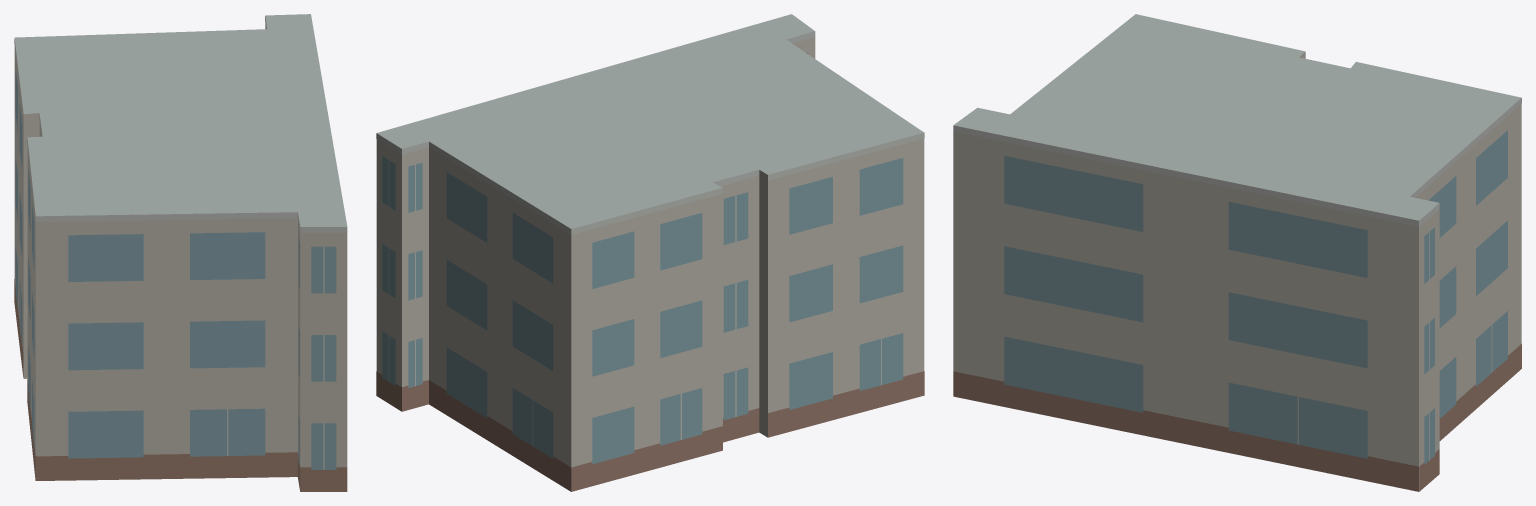
File: survey-upis-32525222.glb
3 views of the same model, side by side, from view 1: azimuth 30°, elevation 25°; view 2: azimuth 150°, elevation 25°; view 3: azimuth 270°, elevation 25° (orthographic). The views are drawn at different scales.
Parts seen in each view (by area): view 1: survey-upis-32525222.tmp; view 2: survey-upis-32525222.tmp; view 3: survey-upis-32525222.tmp.
Part boxes in pixels (x1=…): survey-upis-32525222.tmp: x1=14, y1=14, x2=347, y2=491; survey-upis-32525222.tmp: x1=376, y1=14, x2=924, y2=491; survey-upis-32525222.tmp: x1=953, y1=14, x2=1521, y2=491.
Size of the model in its own units: 17.88 by 10.93 by 20.78.
